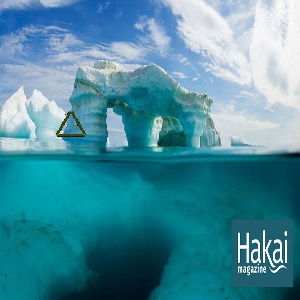triangle: (55, 110, 87, 138)
